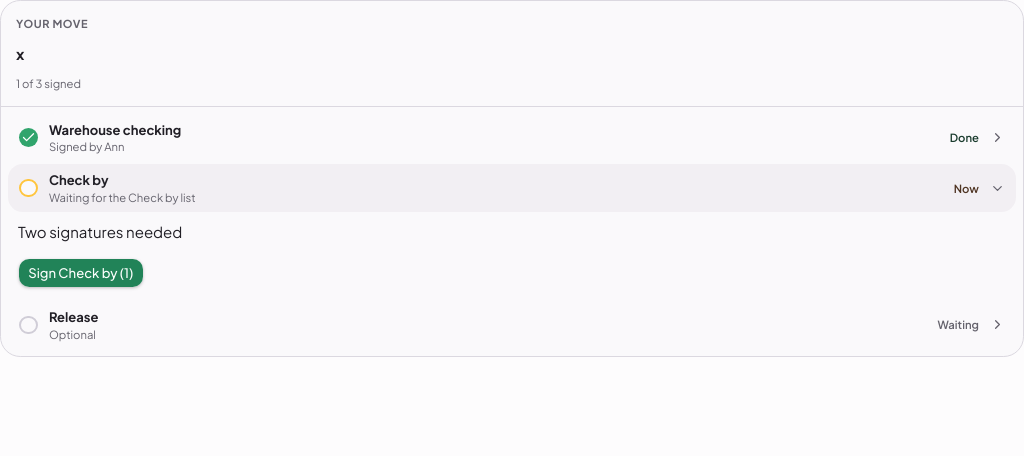
YourMoveCard › opens steps in place, several at once, and shuts one again
What coordinates should you click on to do the following:
click the button "Warehouse checking Signed by Ann Done"
I would click on:
 (115, 130)
Its box is [7,112,1017,163].
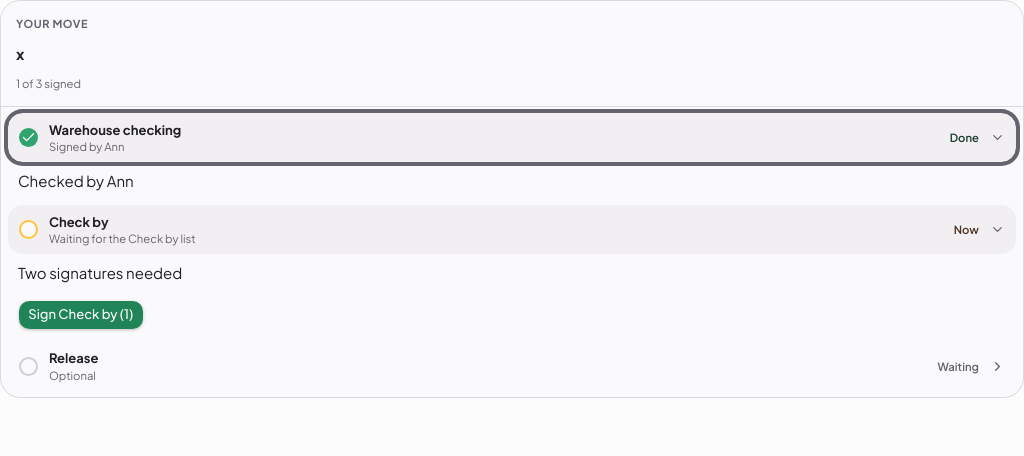
What coordinates should you click on to do the following:
click the button "Release Optional Waiting"
I would click on:
 (74, 358)
Its box is [7,341,1017,392].
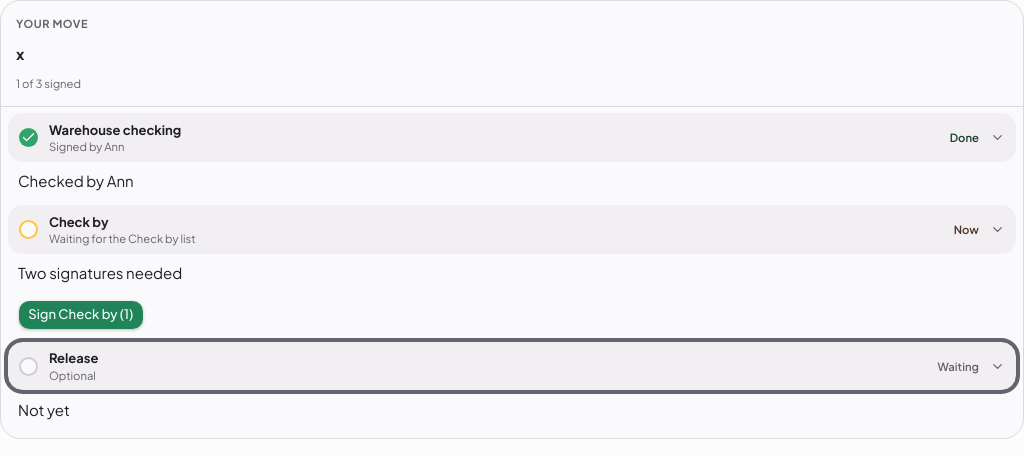
What coordinates should you click on to do the following:
click the button "Check by Waiting for the Check by list Now"
I would click on:
 (79, 222)
Its box is [7,204,1017,255].
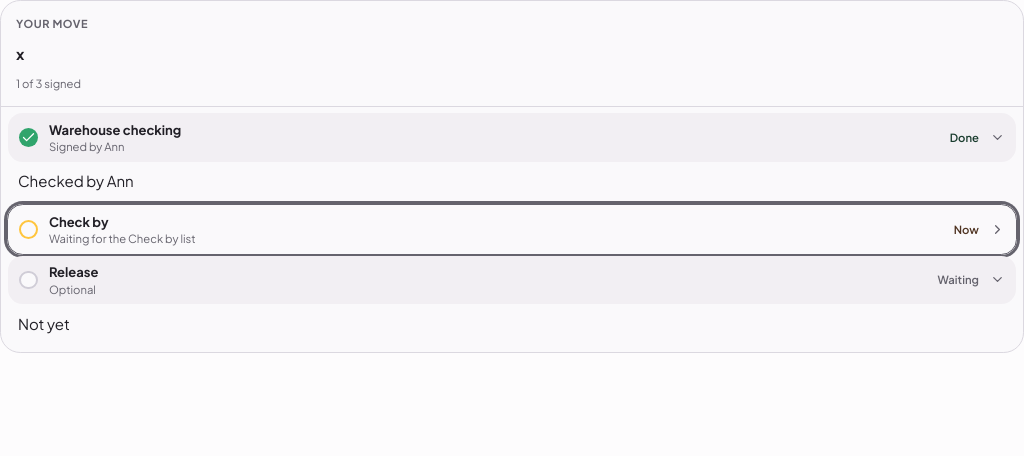
expect the button "Sign Check by (1)" is gone: met
